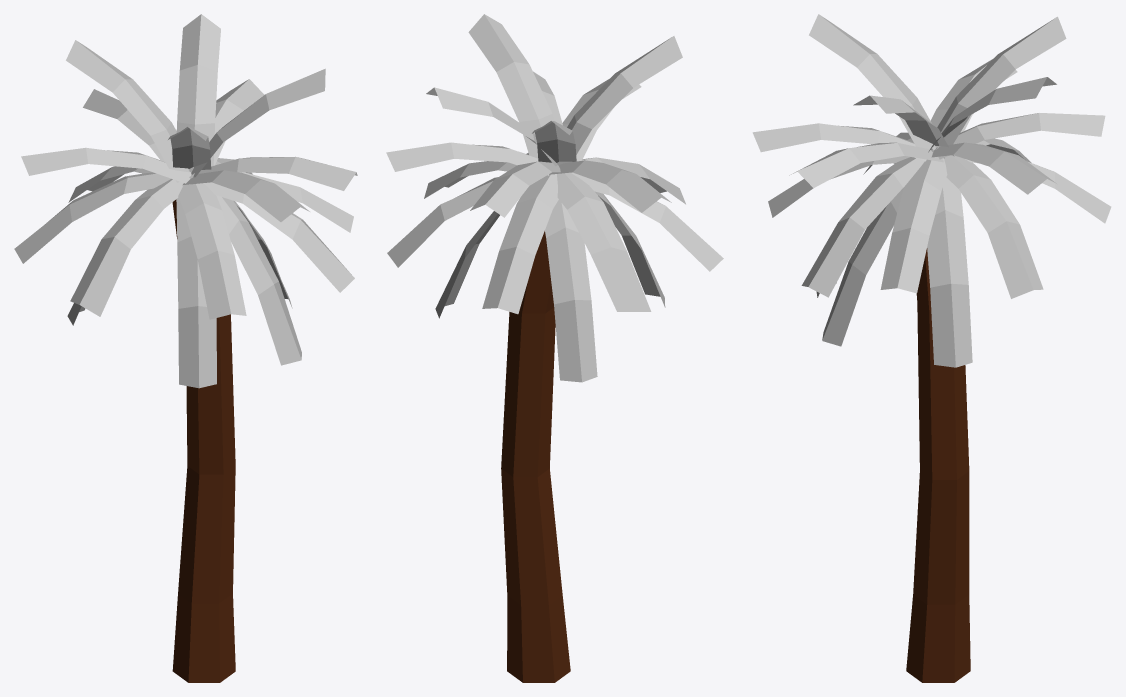
File: PalmTree2Snow.fbx
3 renders of one model, left to right at view 1: azimuth 30°, elevation 25°; view 2: azimuth 150°, elevation 25°; view 3: azimuth 270°, elevation 25°, orthographic. The views are drawn at different scales.
Parts seen in each view (by area): view 1: Cylinder; view 2: Cylinder; view 3: Cylinder.
Part boxes in pixels (x1,y1,x2,y2): Cylinder: (14, 14, 357, 682); Cylinder: (386, 14, 723, 682); Cylinder: (752, 14, 1111, 682).
Bounding box in the file's own units: 4.42 × 9.02 × 4.74.
